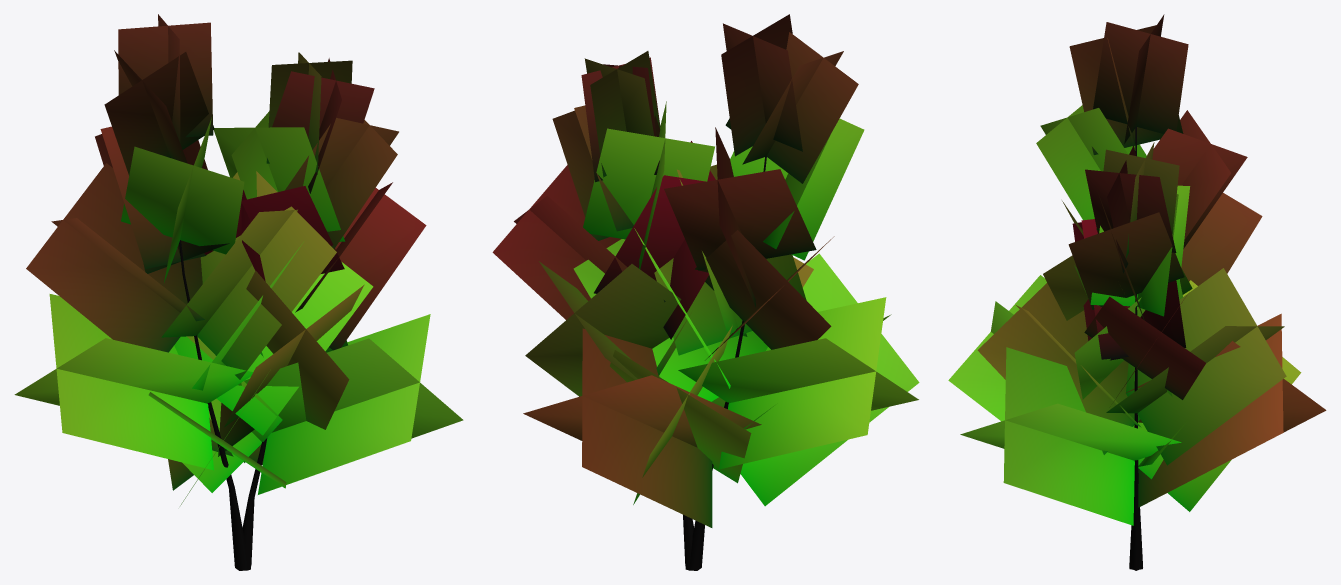
The model's file is Tree_2_13.fbx.
The picture shows the model from 3 angles, left to right: view 1: azimuth 30°, elevation 25°; view 2: azimuth 150°, elevation 25°; view 3: azimuth 270°, elevation 25°; orthographic projection. The views are drawn at different scales.
Parts seen in each view (by area): view 1: Tree_2_13; view 2: Tree_2_13; view 3: Tree_2_13.
Boxes of the visible parts, <box> form: Tree_2_13: <box>14,14,463,570</box>; Tree_2_13: <box>492,14,919,570</box>; Tree_2_13: <box>948,14,1326,570</box>.
Bounding box in the file's own units: 4898 × 6818 × 4585.
